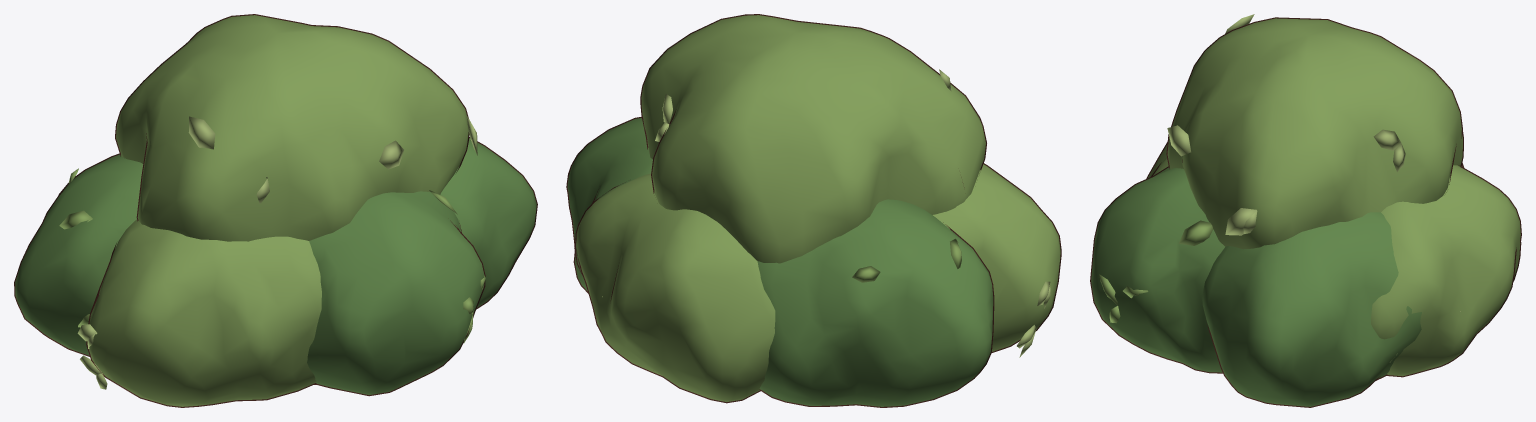
Rendered from busch.glb.
3 views of the same model, side by side, from view 1: azimuth 30°, elevation 25°; view 2: azimuth 150°, elevation 25°; view 3: azimuth 270°, elevation 25° (orthographic). The views are drawn at different scales.
Visible parts, largest first — view 1: Foliage_Garden_Foliage_2, Foliage_Garden_Foliage_1, Leaves_Garden_Foliage_3, Outline_Foliage_Garden_Foliage_2, Outline_Foliage_Garden_Foliage_1, Leaves_Garden_Foliage_2; view 2: Foliage_Garden_Foliage_2, Foliage_Garden_Foliage_1, Outline_Foliage_Garden_Foliage_2, Outline_Foliage_Garden_Foliage_1, Leaves_Garden_Foliage_3, Leaves_Garden_Foliage_2; view 3: Foliage_Garden_Foliage_2, Foliage_Garden_Foliage_1, Leaves_Garden_Foliage_3, Outline_Foliage_Garden_Foliage_2, Leaves_Garden_Foliage_2, Outline_Foliage_Garden_Foliage_1.
Part boxes in pixels (x1,y1,x2,y2): Foliage_Garden_Foliage_2: [87, 15, 468, 406]; Foliage_Garden_Foliage_1: [15, 138, 536, 394]; Leaves_Garden_Foliage_3: [77, 114, 477, 389]; Outline_Foliage_Garden_Foliage_2: [86, 14, 469, 407]; Outline_Foliage_Garden_Foliage_1: [14, 137, 537, 396]; Leaves_Garden_Foliage_2: [59, 168, 485, 343]; Foliage_Garden_Foliage_2: [576, 15, 1060, 401]; Foliage_Garden_Foliage_1: [567, 118, 993, 406]; Outline_Foliage_Garden_Foliage_2: [575, 14, 1061, 403]; Outline_Foliage_Garden_Foliage_1: [566, 116, 994, 407]; Leaves_Garden_Foliage_3: [602, 69, 1050, 357]; Leaves_Garden_Foliage_2: [852, 238, 961, 282]; Foliage_Garden_Foliage_2: [1148, 18, 1520, 376]; Foliage_Garden_Foliage_1: [1091, 166, 1462, 406]; Leaves_Garden_Foliage_3: [1167, 14, 1460, 362]; Outline_Foliage_Garden_Foliage_2: [1146, 17, 1521, 377]; Leaves_Garden_Foliage_2: [1099, 220, 1213, 323]; Outline_Foliage_Garden_Foliage_1: [1090, 162, 1464, 407].
Bounding box in the file's own units: 0.8033 × 0.5527 × 0.6691.
